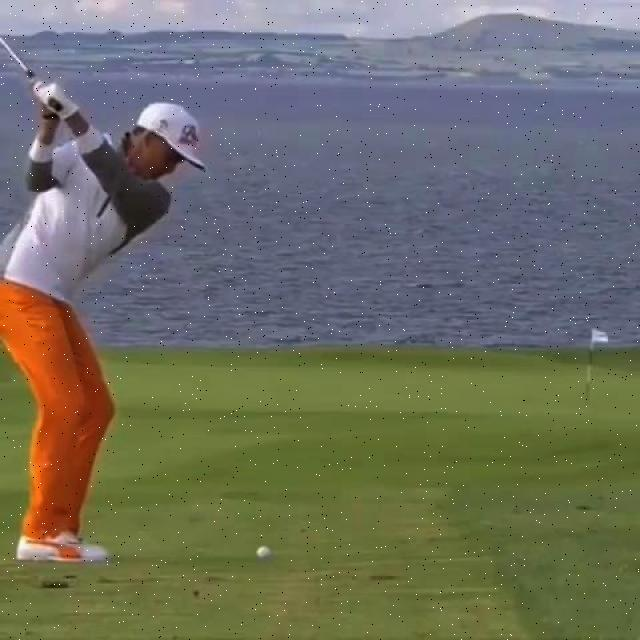golf ball: (255, 545, 269, 558)
golf club-handle: (0, 35, 63, 112)
